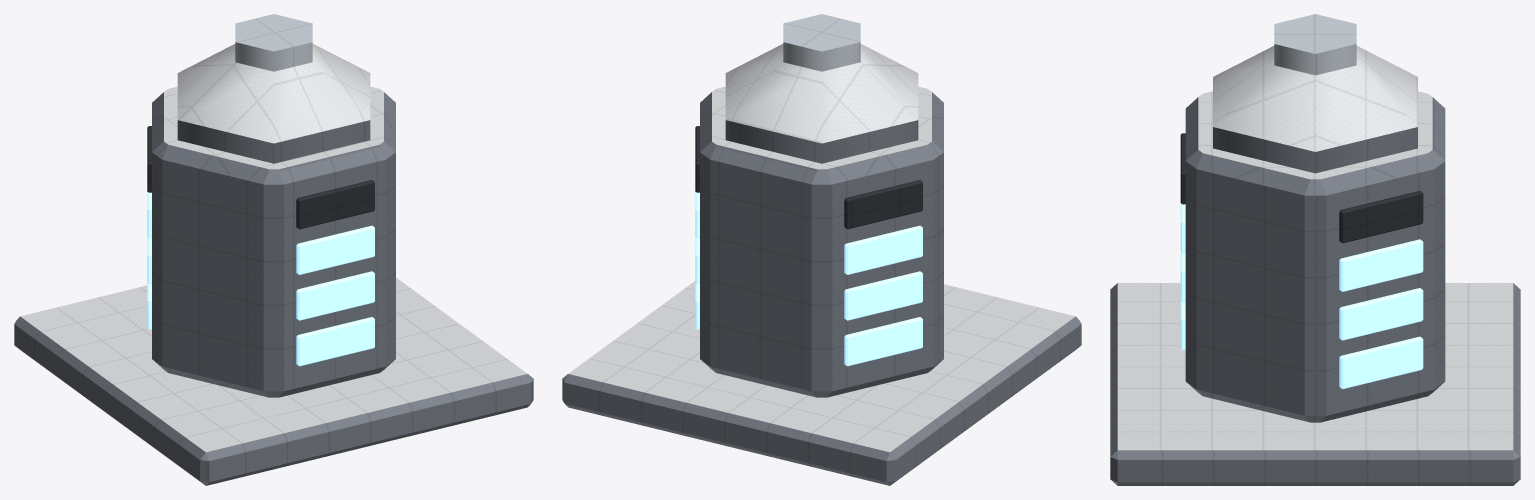
The model's file is R4X_ChargeCapacity_LOD1.glb.
The picture shows the model from 3 angles, left to right: view 1: azimuth 30°, elevation 25°; view 2: azimuth 150°, elevation 25°; view 3: azimuth 270°, elevation 25°; orthographic projection. The views are drawn at different scales.
Parts seen in each view (by area): view 1: R4X_ChargeCapacity_LOD1; view 2: R4X_ChargeCapacity_LOD1; view 3: R4X_ChargeCapacity_LOD1.
Boxes of the visible parts, bbox=[...] form: R4X_ChargeCapacity_LOD1: bbox=[14, 14, 533, 485]; R4X_ChargeCapacity_LOD1: bbox=[562, 14, 1081, 485]; R4X_ChargeCapacity_LOD1: bbox=[1110, 14, 1520, 485].
Size of the model in its own units: 0.52 by 0.515 by 0.52.
Materials: 5 (4 with a texture image).
